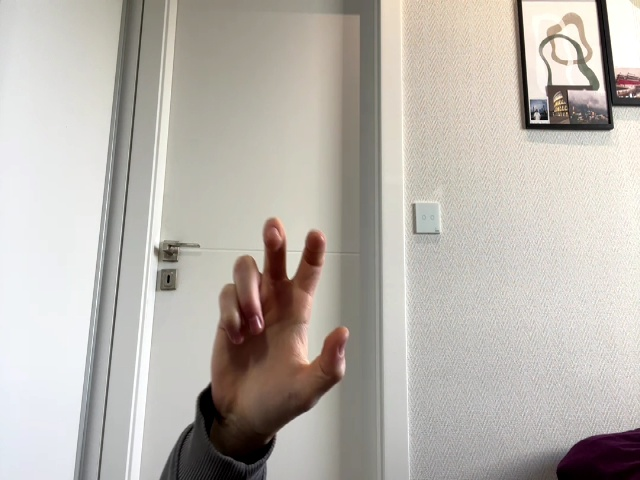CH: (210, 218, 350, 425)
